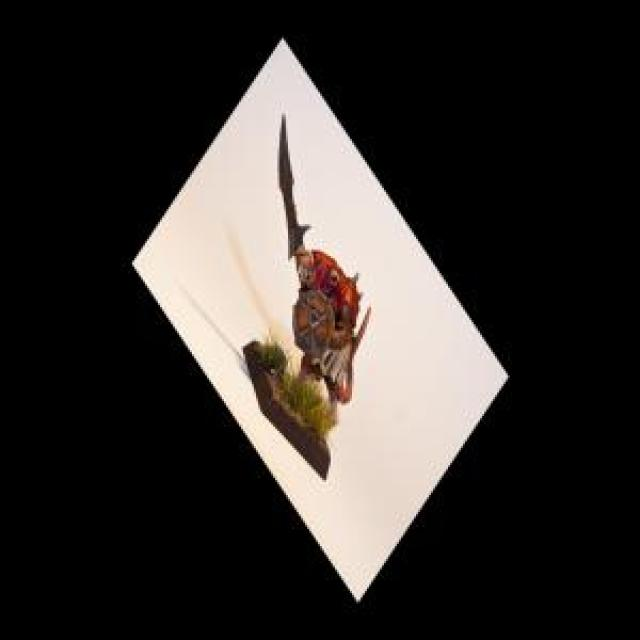knife: (275, 104, 313, 271)
